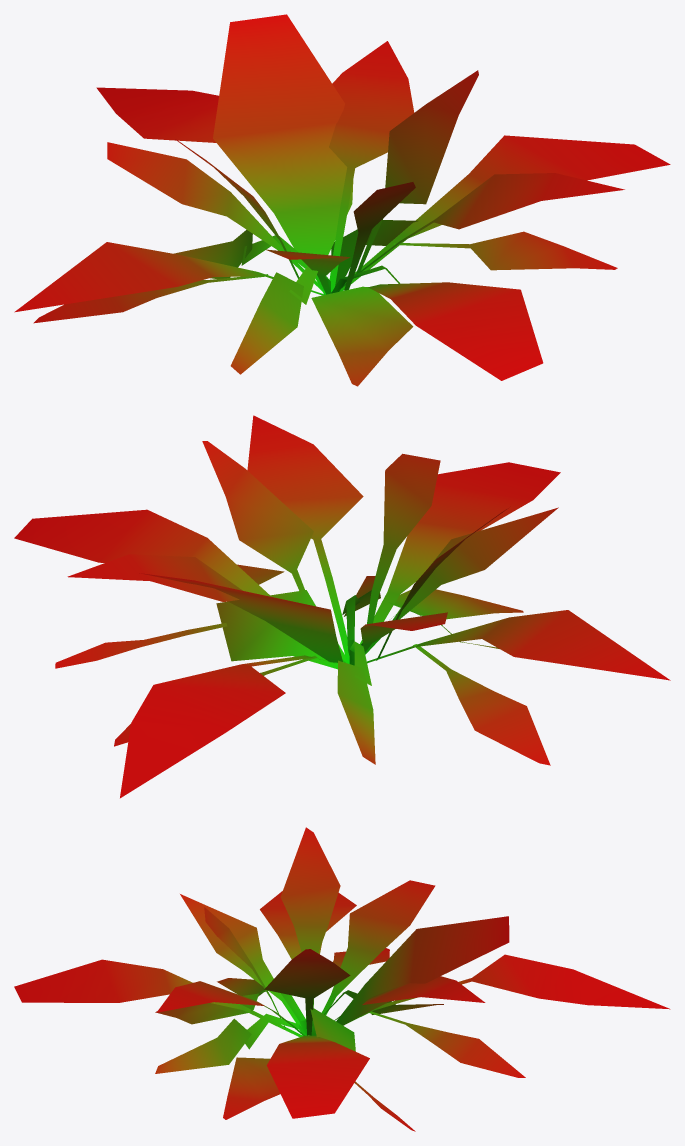
Rendered from Var3_LOD3.fbx.
3 views of the same model, one above another, from view 1: azimuth 30°, elevation 25°; view 2: azimuth 150°, elevation 25°; view 3: azimuth 270°, elevation 25° (orthographic). The views are drawn at different scales.
Parts seen in each view (by area): view 1: _7634_Var3_LOD3; view 2: _7634_Var3_LOD3; view 3: _7634_Var3_LOD3.
Part boxes in pixels (box(x1,y1,x2,y2)): _7634_Var3_LOD3: box(14, 14, 670, 386); _7634_Var3_LOD3: box(14, 415, 670, 798); _7634_Var3_LOD3: box(14, 827, 670, 1131).
Bounding box in the file's own units: 108 × 32.78 × 123.
